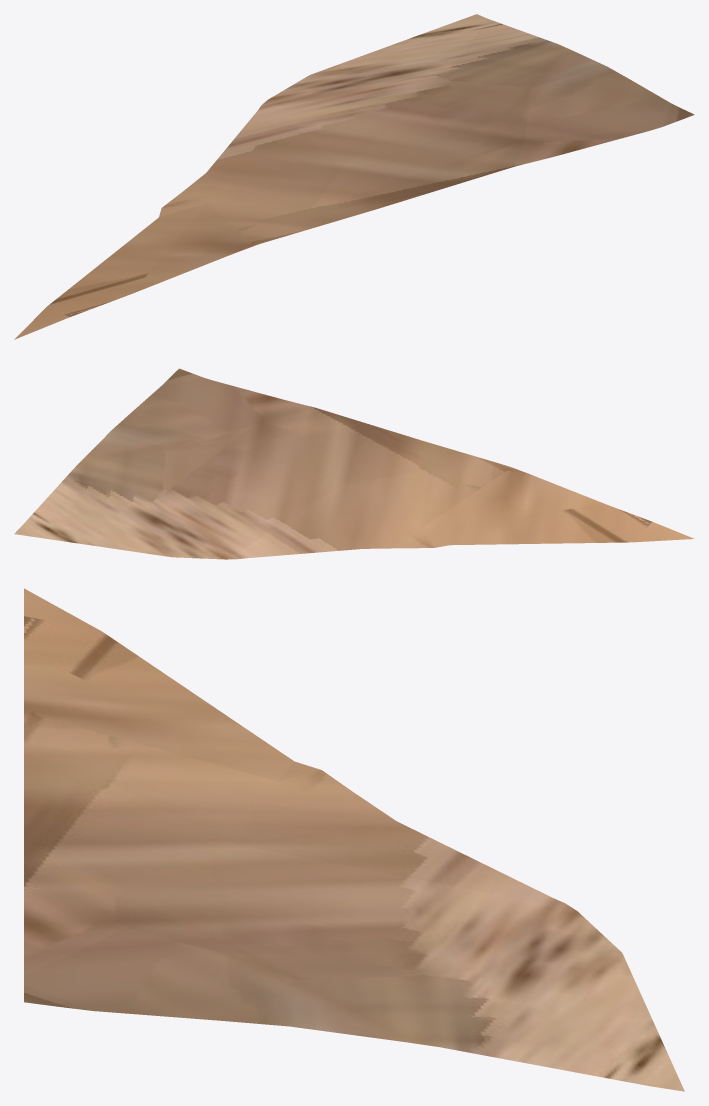
3 views of the same model, one above another, from view 1: azimuth 30°, elevation 25°; view 2: azimuth 150°, elevation 25°; view 3: azimuth 270°, elevation 25° (orthographic). The views are drawn at different scales.
Bounding box in the file's own units: 0.7953 × 0.0658 × 0.4413.
1 material, 1 textured.
